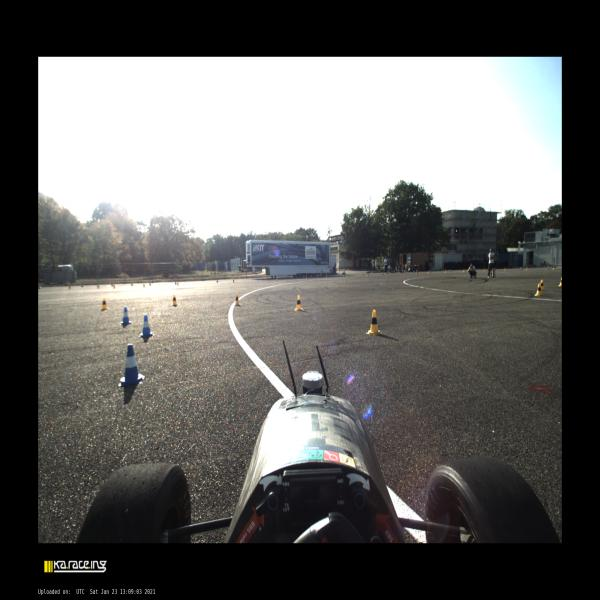blue_cone: (118, 344, 144, 386), (140, 314, 153, 337), (120, 307, 132, 323), (149, 282, 151, 286), (111, 282, 113, 286), (81, 283, 83, 287), (38, 285, 40, 289), (291, 274, 293, 278), (317, 274, 319, 278), (362, 272, 364, 276), (494, 267, 496, 271), (520, 266, 522, 270), (131, 283, 133, 286), (413, 270, 415, 273), (449, 269, 451, 272), (548, 266, 550, 269), (175, 281, 176, 285), (217, 279, 218, 283), (257, 277, 258, 281), (344, 272, 345, 276), (383, 272, 384, 274), (430, 270, 431, 272)
large_orange_cone: (416, 269, 418, 274), (402, 268, 403, 274)
yellow_cone: (366, 309, 382, 336), (295, 295, 303, 311), (101, 296, 109, 310), (534, 283, 542, 296), (234, 293, 241, 306), (172, 294, 177, 305), (558, 276, 562, 286), (540, 280, 544, 290), (113, 283, 116, 289), (346, 274, 349, 278), (232, 278, 235, 282), (97, 283, 99, 289), (427, 270, 430, 274), (552, 266, 555, 270), (326, 274, 328, 279), (143, 283, 145, 288), (68, 284, 70, 289), (276, 276, 278, 281), (462, 268, 464, 272), (386, 272, 388, 276), (177, 282, 179, 286), (403, 271, 405, 275), (504, 267, 506, 271), (526, 266, 528, 270), (367, 273, 369, 276), (445, 269, 446, 273), (484, 268, 485, 272), (306, 275, 307, 279)
